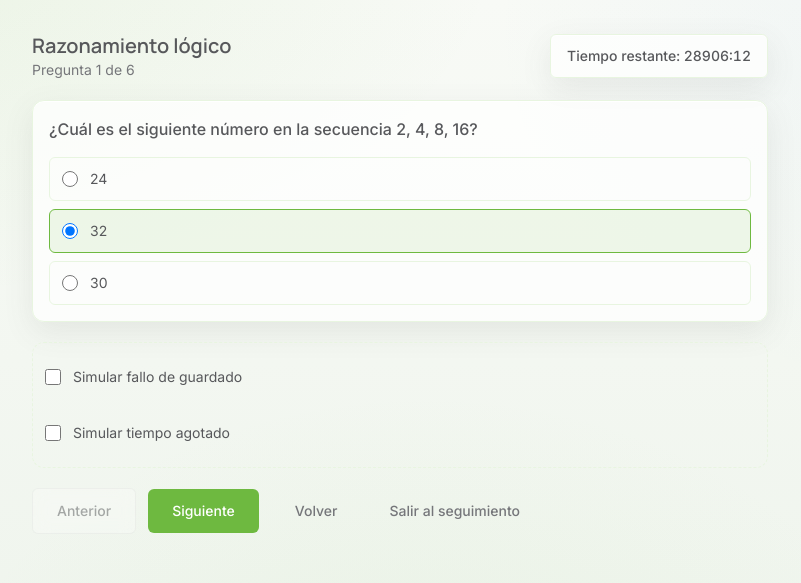
Test: PruebasCandidateScreen UI › simulates time up and blocks submit
Click the checkbox with test id "candidate-simulate-time-up". click: click(53, 433)
box: [45,425,61,441]
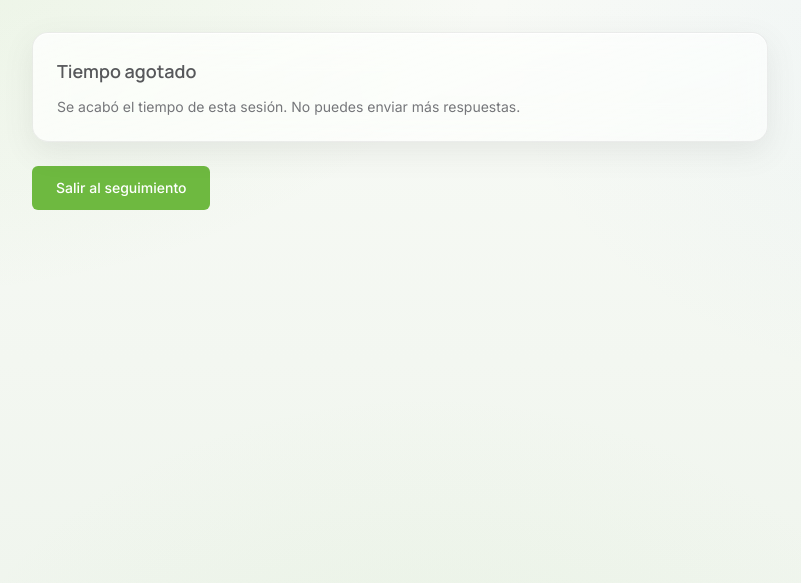
Expected: the element with test id "candidate-blocked-time_up" is shown, [16,0,784,242]
